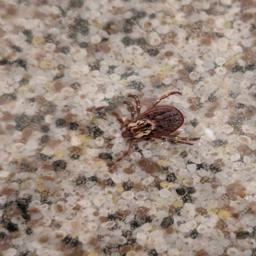Dermacentor variabilis: (110, 87, 200, 164)
